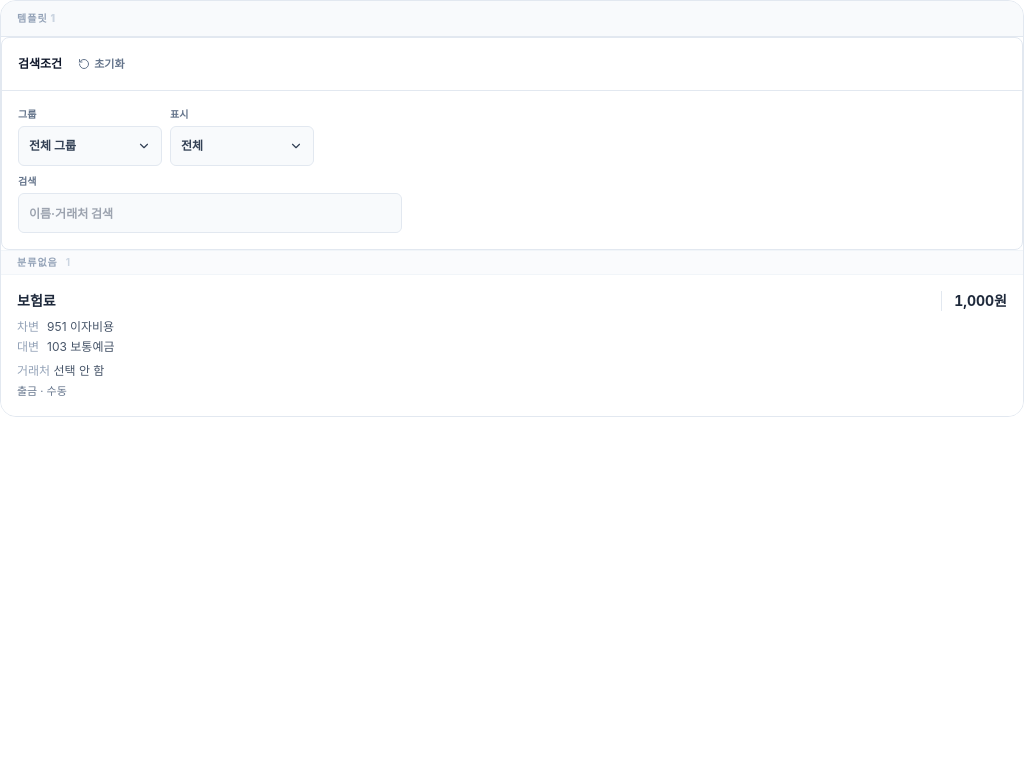
it: 템플릿 상세보기 › 목록에는 조작이 없고 행을 열어도 쓰지 않는다
Expected: the button "삭제" is not shown
Click the button with aria-label "보험료 상세보기" at (36, 300), box [1,275,1023,416]
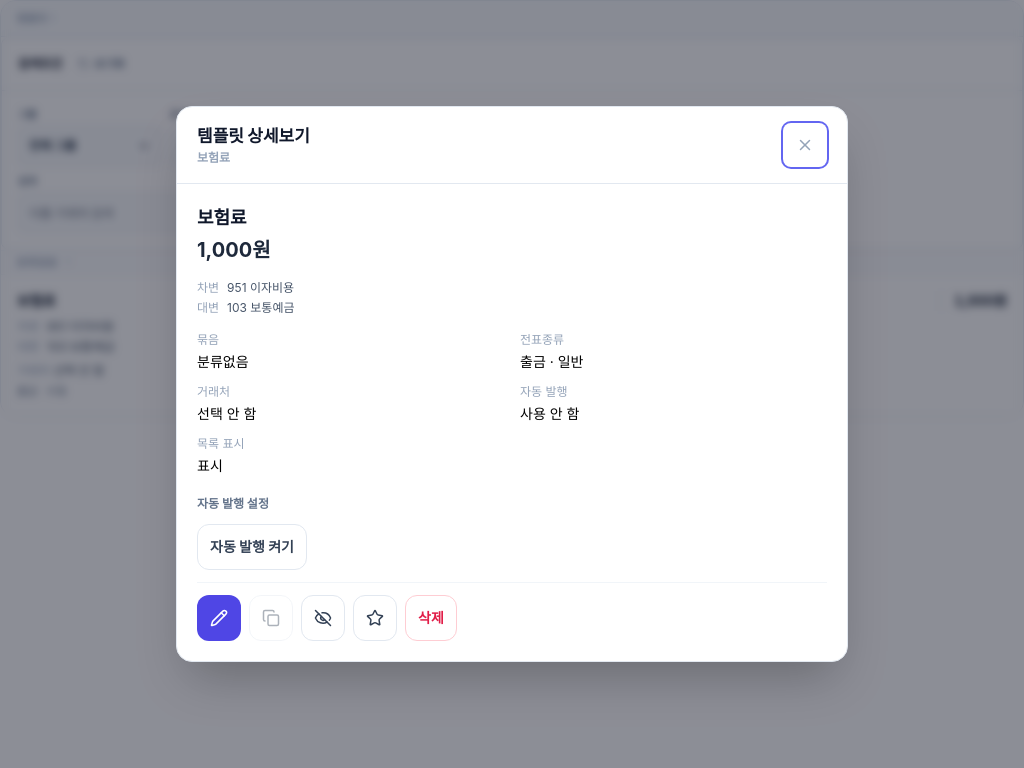
Now the heading "템플릿 상세보기" is shown, box [197,124,310,148]
Now the button "삭제" is shown, box [405,595,457,641]
